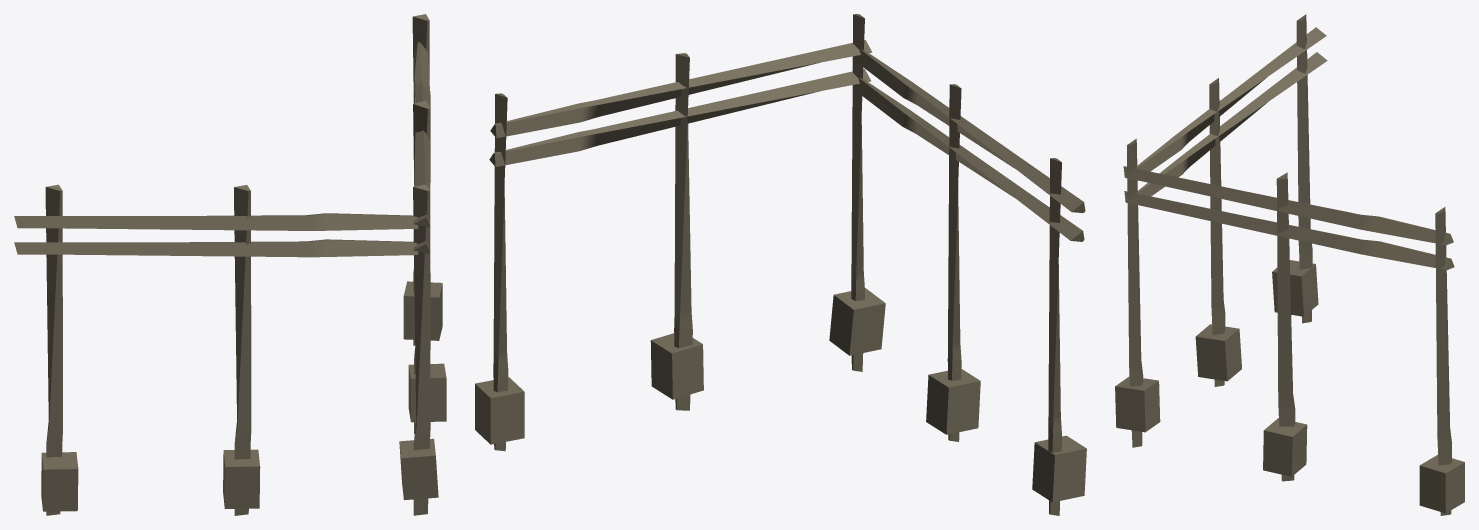
File: RedBackDoorBeam.fbx
3 views of the same model, side by side, from view 1: azimuth 30°, elevation 25°; view 2: azimuth 150°, elevation 25°; view 3: azimuth 270°, elevation 25° (orthographic). The views are drawn at different scales.
Visible parts, largest first — view 1: RedBackDoorBeam_Merged; view 2: RedBackDoorBeam_Merged; view 3: RedBackDoorBeam_Merged.
Part boxes in pixels (x1,y1,x2,y2): RedBackDoorBeam_Merged: (14, 14, 446, 515); RedBackDoorBeam_Merged: (475, 14, 1086, 515); RedBackDoorBeam_Merged: (1115, 14, 1464, 515).
Size of the model in its own units: 565 by 366 by 372.
